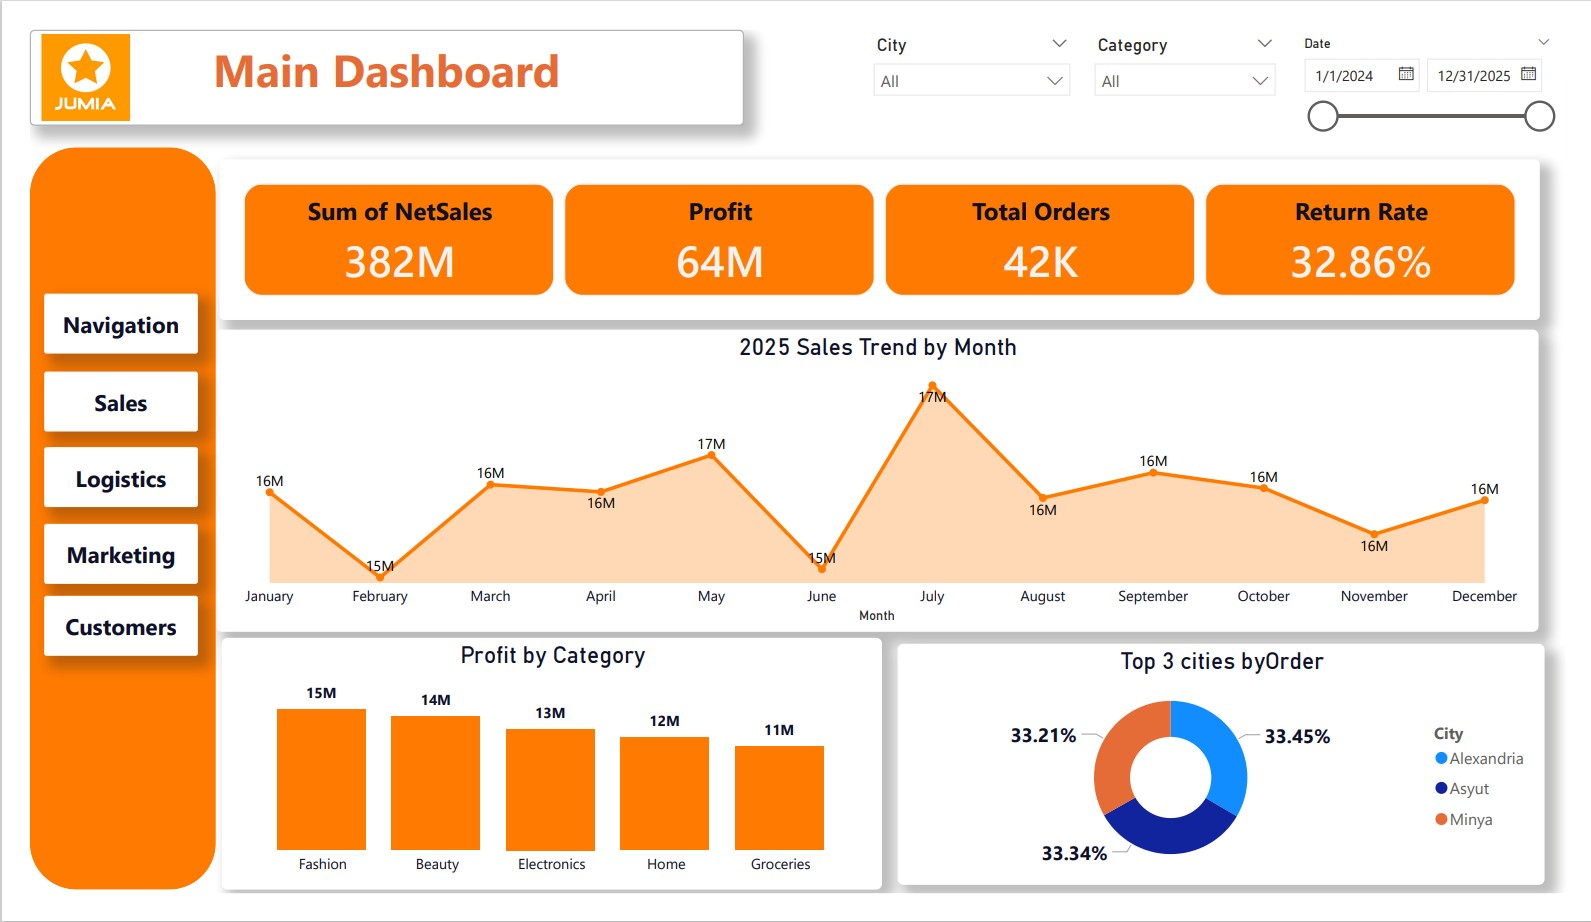

This screenshot's page, from the dashboard's own definition file:
{"tool":"powerbi","page":{"name":"Over view","canvas":[1280,720],"ordinal":0},"visuals":[{"type":"slicer","fields":{"Values":["Dim_Date.Date"]},"box":[1048.8,0,230.6,88.8],"z":0},{"type":"slicer","fields":{"Values":["Fact_Orders.City"]},"box":[693.3,0,183.3,58.3],"z":1000},{"type":"slicer","fields":{"Values":["Fact_Orders.Category"]},"box":[876.7,0,171.7,58.3],"z":2000},{"type":"cardVisual","fields":{"Data":["Sum(Fact_Orders.NetSales)","Fact_Orders.Profit","Fact_Orders.Total Orders","Fact_Orders.Return Rate"]},"box":[158,108,1100,134],"z":3000},{"type":"lineChart","title":"2025 Sales Trend by Month","fields":{"Y":["Fact_Orders.Total Net Sales"],"Category":["Dim_Date.Date.Variation.Date Hierarchy.Month"]},"box":[155,250,1101.7,251.7],"z":4000},{"type":"columnChart","fields":{"Category":["Fact_Orders.Category"],"Y":["Fact_Orders.Profit"]},"box":[160,506.7,550,210],"z":5000},{"type":"donutChart","title":"Top 3 cities byOrder","fields":{"Category":["Fact_Orders.City"],"Y":["Fact_Orders.Total Orders"]},"box":[723.3,511.7,538.3,201.7],"z":6000},{"type":"shape","box":[0,98.3,155,618.3],"z":7000},{"type":"actionButton","title":"Navigation","box":[11.7,220,128.3,50],"z":8000},{"type":"actionButton","title":"Navigation","box":[11.7,285,128.3,50],"z":9000},{"type":"actionButton","title":"Navigation","box":[11.7,348.3,128.3,50],"z":10000},{"type":"actionButton","title":"Navigation","box":[11.7,411.7,128.3,50],"z":11000},{"type":"actionButton","title":"Navigation","box":[11.7,471.7,128.3,50],"z":12000},{"type":"textbox","box":[0,0,595,80],"z":14000,"group":"g1"},{"type":"image","box":[0,0,93.3,80],"z":14500,"group":"g1"},{"type":"group","id":"g1","title":"Group 1","box":[0,0,595,80],"z":14501}]}

Visuals, with their boxes in screenshot pixels (x1, y1, x2, y2), scaled from the page's 1280x720 canvas onto the 1591x922 screenshot:
slicer - Dim_Date.Date: <region>1304, 0, 1590, 114</region>
slicer - Fact_Orders.City: <region>862, 0, 1090, 75</region>
slicer - Fact_Orders.Category: <region>1090, 0, 1303, 75</region>
cardVisual - Sum(Fact_Orders.NetSales) x Fact_Orders.Profit: <region>196, 138, 1564, 310</region>
"2025 Sales Trend by Month" lineChart: <region>193, 320, 1562, 642</region>
columnChart - Fact_Orders.Category x Fact_Orders.Profit: <region>199, 649, 883, 918</region>
"Top 3 cities byOrder" donutChart: <region>899, 655, 1568, 914</region>
shape: <region>0, 126, 193, 918</region>
"Navigation" actionButton: <region>15, 282, 174, 346</region>
"Navigation" actionButton: <region>15, 365, 174, 429</region>
"Navigation" actionButton: <region>15, 446, 174, 510</region>
"Navigation" actionButton: <region>15, 527, 174, 591</region>
"Navigation" actionButton: <region>15, 604, 174, 668</region>
textbox: <region>0, 0, 740, 102</region>
image: <region>0, 0, 116, 102</region>
"Group 1" group: <region>0, 0, 740, 102</region>
